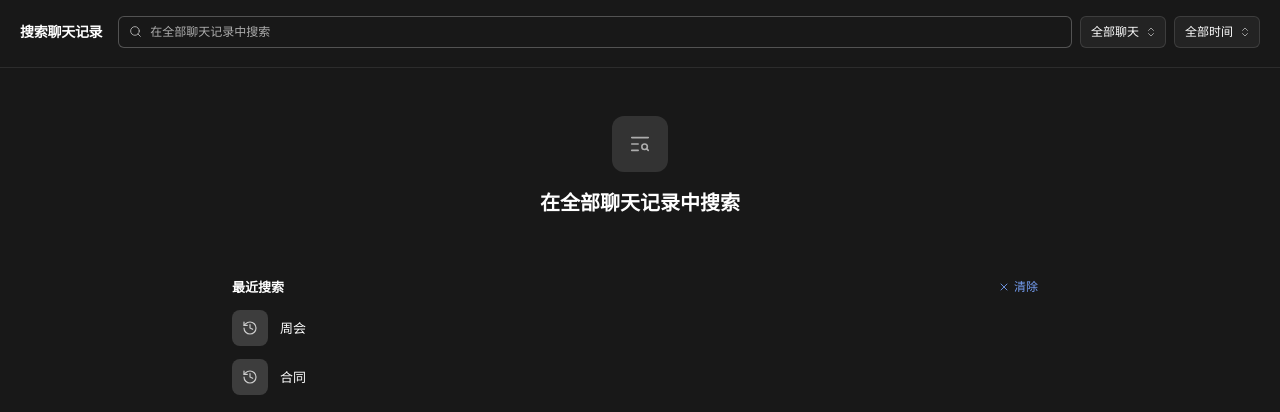
Test: SearchTab › starts from the hint and the recent searches, and a recent search runs again
Expected: the text "在全部聊天记录中搜索" is shown, [540,188,740,218]
Click the button "周会": click(269, 328) [232,310,306,346]
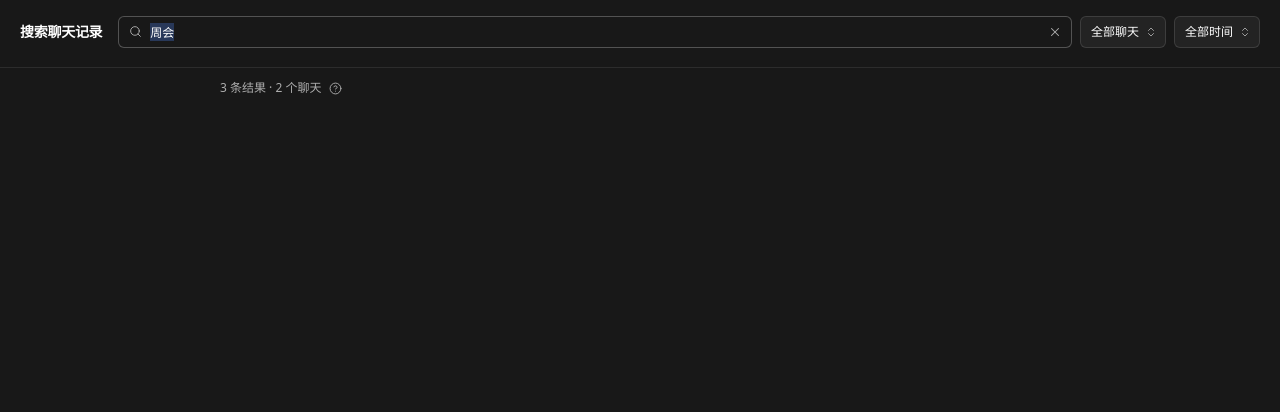
Expected: the text "3 条结果 · 2 个聊天" is shown, [220,80,321,96]
Expected: the search field named "在全部聊天记录中搜索" holds "周会", [150,16,1037,46]
